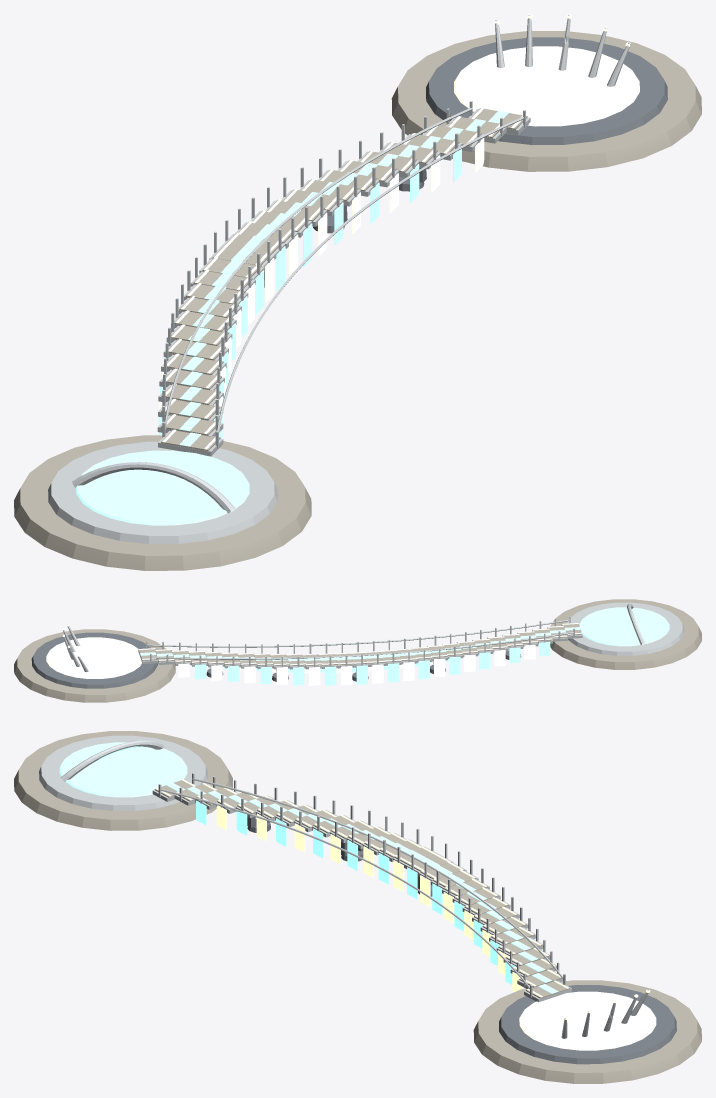
Rendered from cau_anh_sao.glb.
3 views of the same model, one above another, from view 1: azimuth 30°, elevation 25°; view 2: azimuth 150°, elevation 25°; view 3: azimuth 270°, elevation 25° (orthographic). The views are drawn at different scales.
Visible parts, largest first — view 1: cau_anh_sao; view 2: cau_anh_sao; view 3: cau_anh_sao.
Part boxes in pixels (x1,y1,x2,y2): cau_anh_sao: (14,14,701,570); cau_anh_sao: (14,599,701,702); cau_anh_sao: (14,731,701,1083).
Bounding box in the file's own units: 178 × 12 × 150.
